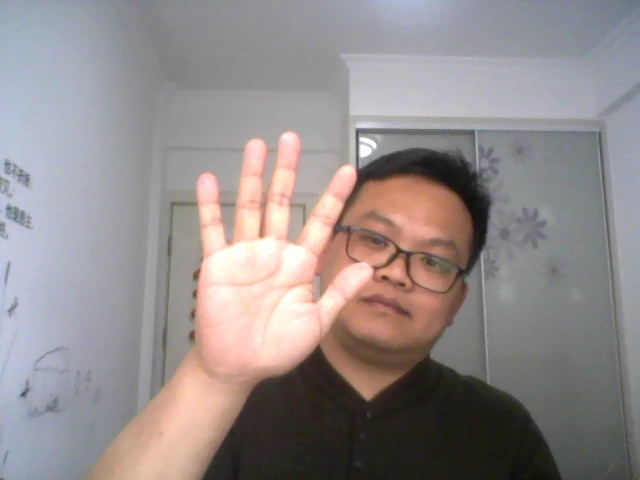Hello: (181, 125, 376, 388)
